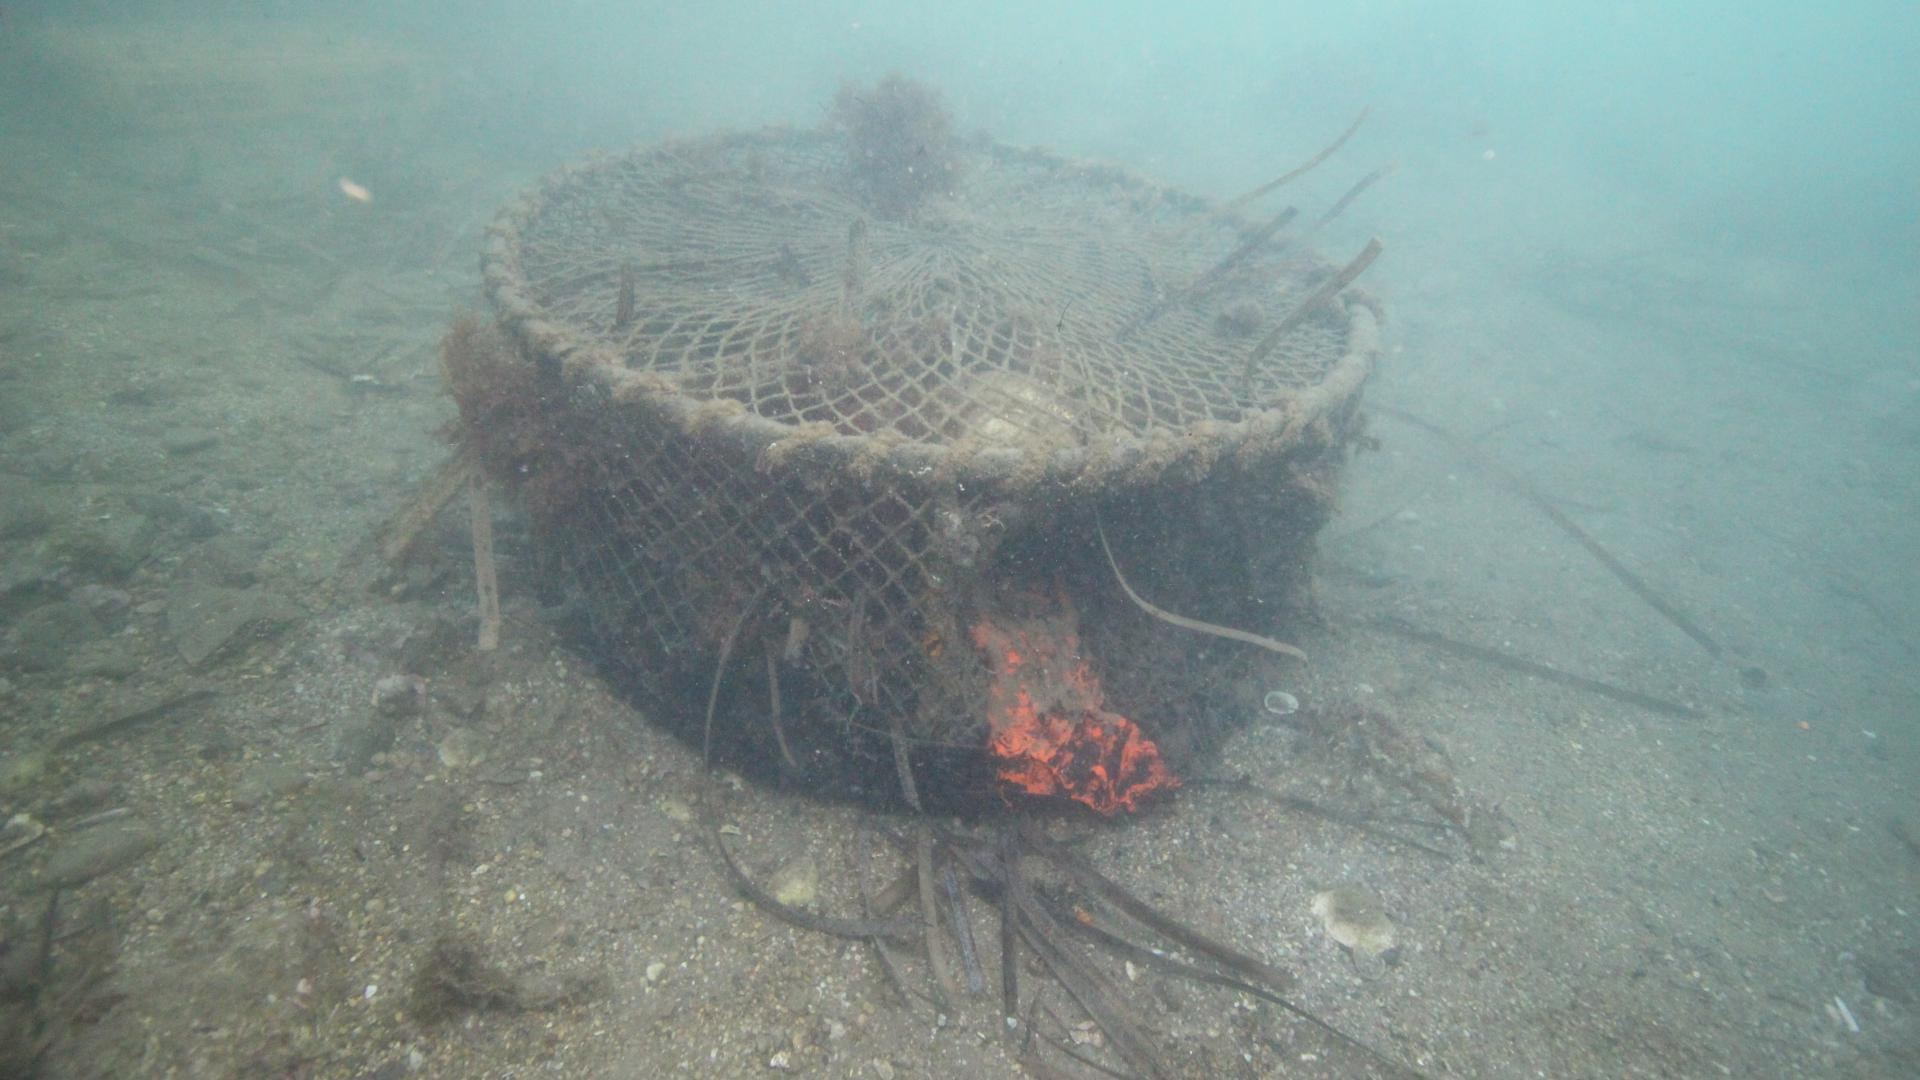circular fish trap: (477, 124, 1379, 812)
